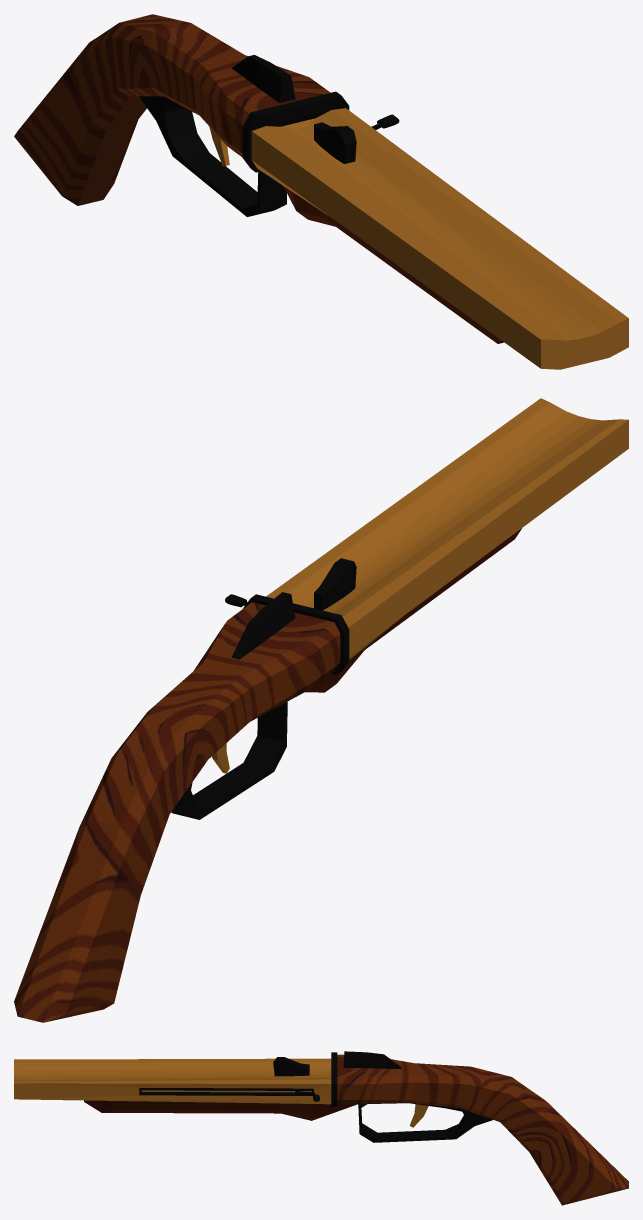
The model's file is Wood Gun.fbx.
3 renders of one model, top to bottom at view 1: azimuth 30°, elevation 25°; view 2: azimuth 150°, elevation 25°; view 3: azimuth 270°, elevation 25°, orthographic. The views are drawn at different scales.
Parts seen in each view (by area): view 1: Body, Pull; view 2: Body, Pull; view 3: Body, Pull, Trigger.
Part boxes in pixels (bbox=[...]): Body: bbox=[14, 14, 628, 369]; Pull: bbox=[314, 114, 399, 163]; Body: bbox=[14, 398, 628, 1022]; Pull: bbox=[225, 558, 356, 610]; Body: bbox=[14, 1051, 628, 1205]; Pull: bbox=[273, 1057, 320, 1101]; Trigger: bbox=[410, 1104, 428, 1127].
Bounding box in the file's own units: 62.56 × 444 × 119.
Materials: 2 (1 with a texture image).
